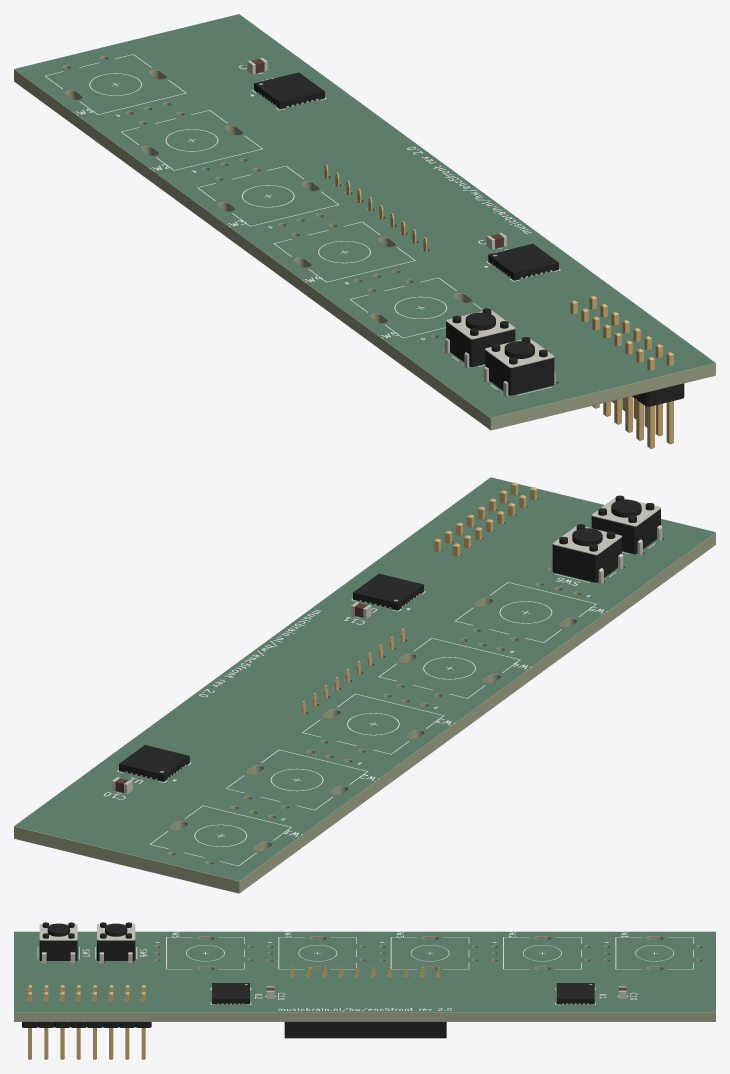
File: musicbrain-enc5front.glb
3 renders of one model, top to bottom at view 1: azimuth 30°, elevation 25°; view 2: azimuth 150°, elevation 25°; view 3: azimuth 270°, elevation 25°, orthographic. The views are drawn at different scales.
Parts seen in each view (by area): view 1: =>[0:1:1:16], =>[0:1:1:14], =>[0:1:1:3] (×2), =>[0:1:1:11], =>[0:1:1:5] (×2), =>[0:1:1:12], =>[0:1:1:15]; view 2: =>[0:1:1:16], =>[0:1:1:14], =>[0:1:1:3] (×2), =>[0:1:1:5] (×2), =>[0:1:1:12], =>[0:1:1:11], =>[0:1:1:15]; view 3: =>[0:1:1:16], =>[0:1:1:14], =>[0:1:1:9], =>[0:1:1:3] (×2), =>[0:1:1:11], =>[0:1:1:12], =>[0:1:1:5] (×2), =>[0:1:1:15].
Part boxes in pixels (x1,y1,x2,y2): =>[0:1:1:16]: [14, 15, 715, 429]; =>[0:1:1:14]: [14, 14, 715, 417]; =>[0:1:1:3] (×2): [444, 308, 555, 396]; =>[0:1:1:11]: [570, 295, 684, 448]; =>[0:1:1:5] (×2): [254, 72, 558, 280]; =>[0:1:1:12]: [45, 54, 560, 395]; =>[0:1:1:15]: [15, 82, 715, 430]; =>[0:1:1:16]: [14, 478, 715, 893]; =>[0:1:1:14]: [14, 477, 715, 880]; =>[0:1:1:3] (×2): [551, 495, 662, 583]; =>[0:1:1:5] (×2): [119, 573, 423, 781]; =>[0:1:1:12]: [103, 543, 655, 866]; =>[0:1:1:11]: [433, 482, 537, 556]; =>[0:1:1:15]: [14, 544, 715, 893]; =>[0:1:1:16]: [14, 932, 715, 1021]; =>[0:1:1:14]: [14, 931, 715, 1012]; =>[0:1:1:9]: [284, 967, 446, 1038]; =>[0:1:1:3] (×2): [39, 922, 135, 963]; =>[0:1:1:11]: [22, 985, 151, 1059]; =>[0:1:1:12]: [37, 931, 693, 1011]; =>[0:1:1:5] (×2): [212, 983, 594, 1004]; =>[0:1:1:15]: [14, 1021, 715, 1021].
Bounding box in the file's own units: 0.03 × 0.0145 × 0.11.
